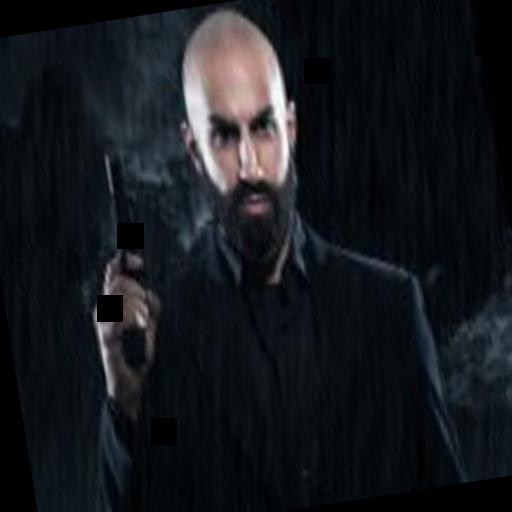Handgun: (74, 122, 186, 384)
